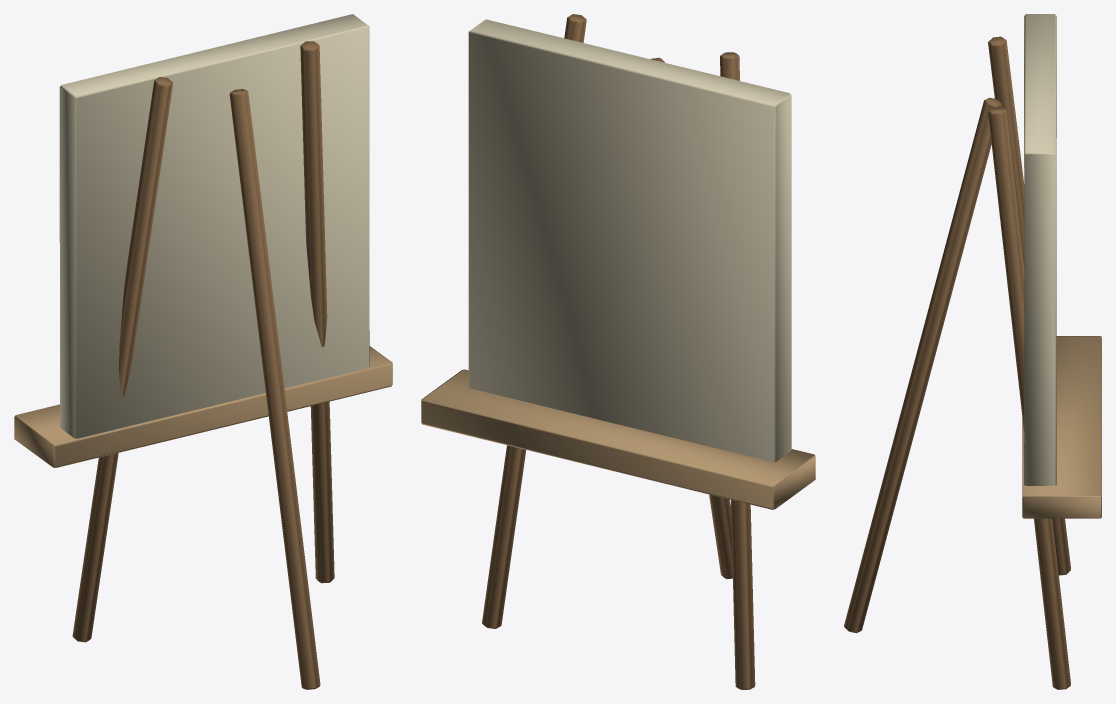
The model's file is easel_low.glb.
3 renders of one model, left to right at view 1: azimuth 30°, elevation 25°; view 2: azimuth 150°, elevation 25°; view 3: azimuth 270°, elevation 25°, orthographic. The views are drawn at different scales.
Bounding box in the file's own units: 1.06 × 1.71 × 0.7172.
